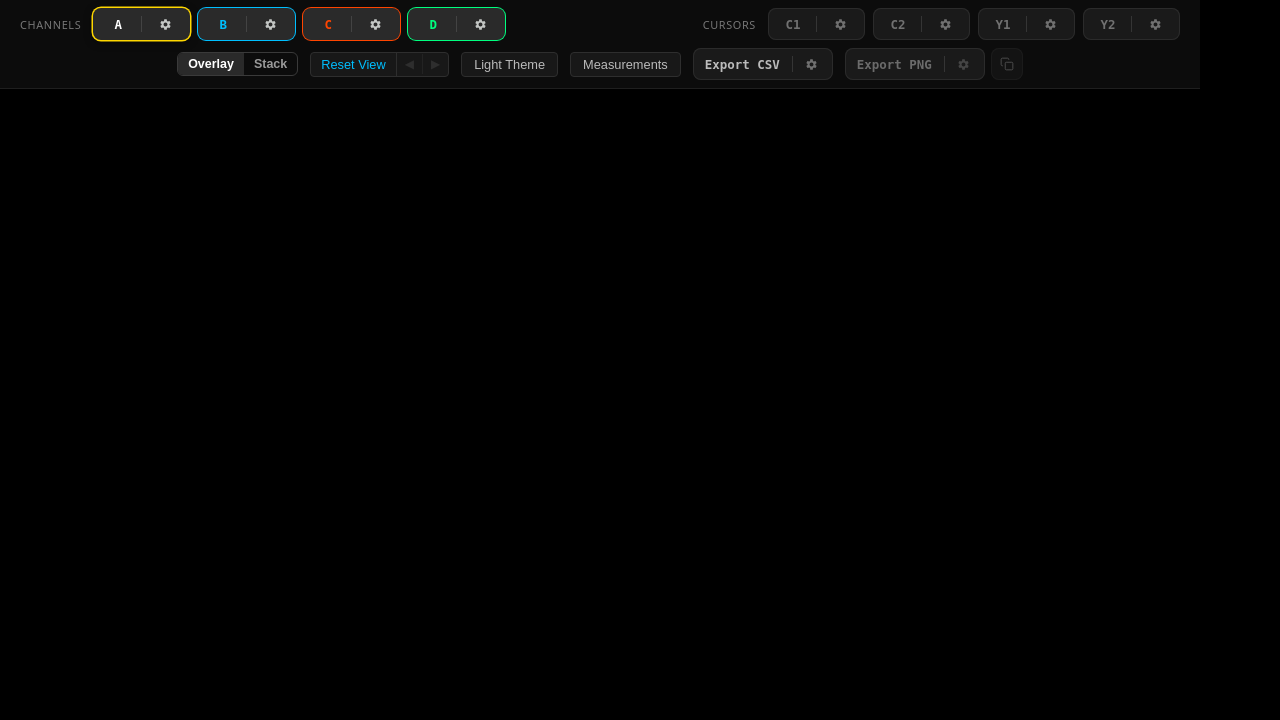
Test case: Badge config popover (issue #204) › AC5/AC6: gear opens one role=dialog popover with initial focus; Esc dismisses and refocuses the gear
The width and height of the screenshot is (1280, 720).
Click the button with test id "channel-gear-A" at (166, 24), box [142,0,190,48]
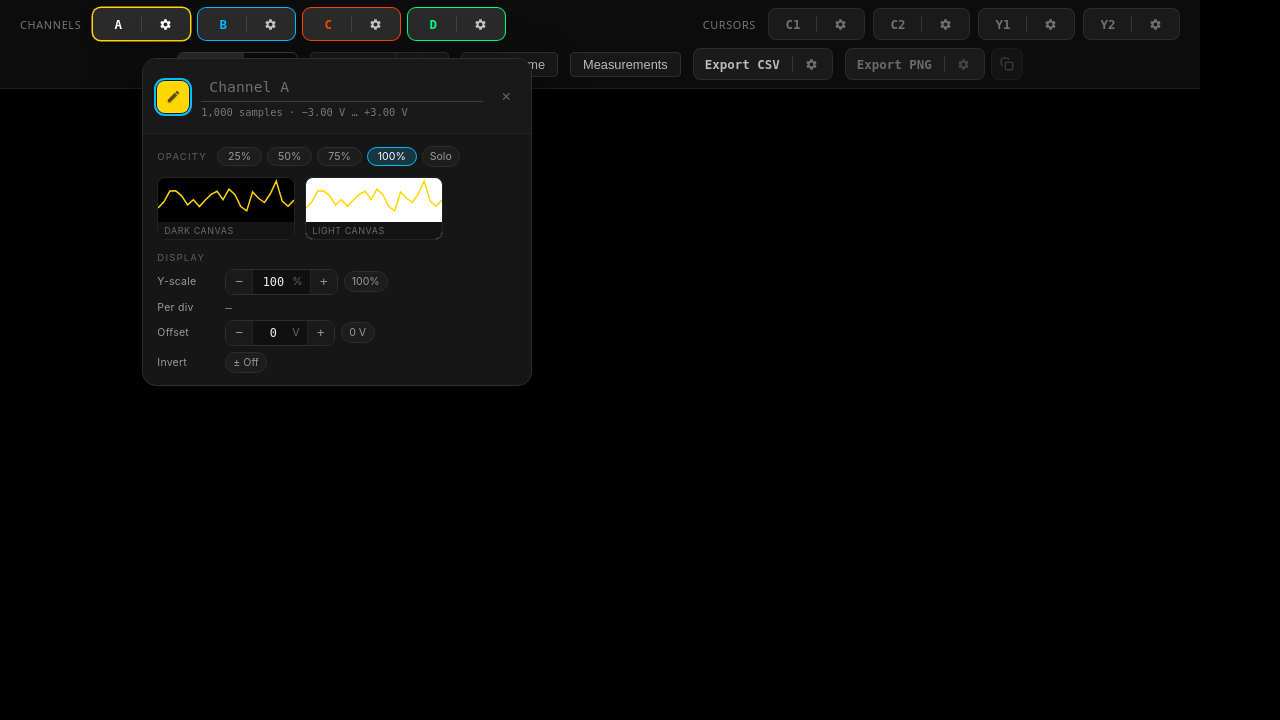
Check: the dialog with test id "badge-config-popover" is shown
Check: the button with test id "channel-gear-A" is expanded, box [142,0,190,48]
Press Escape in the dialog with test id "badge-config-popover", box [142,58,532,386]
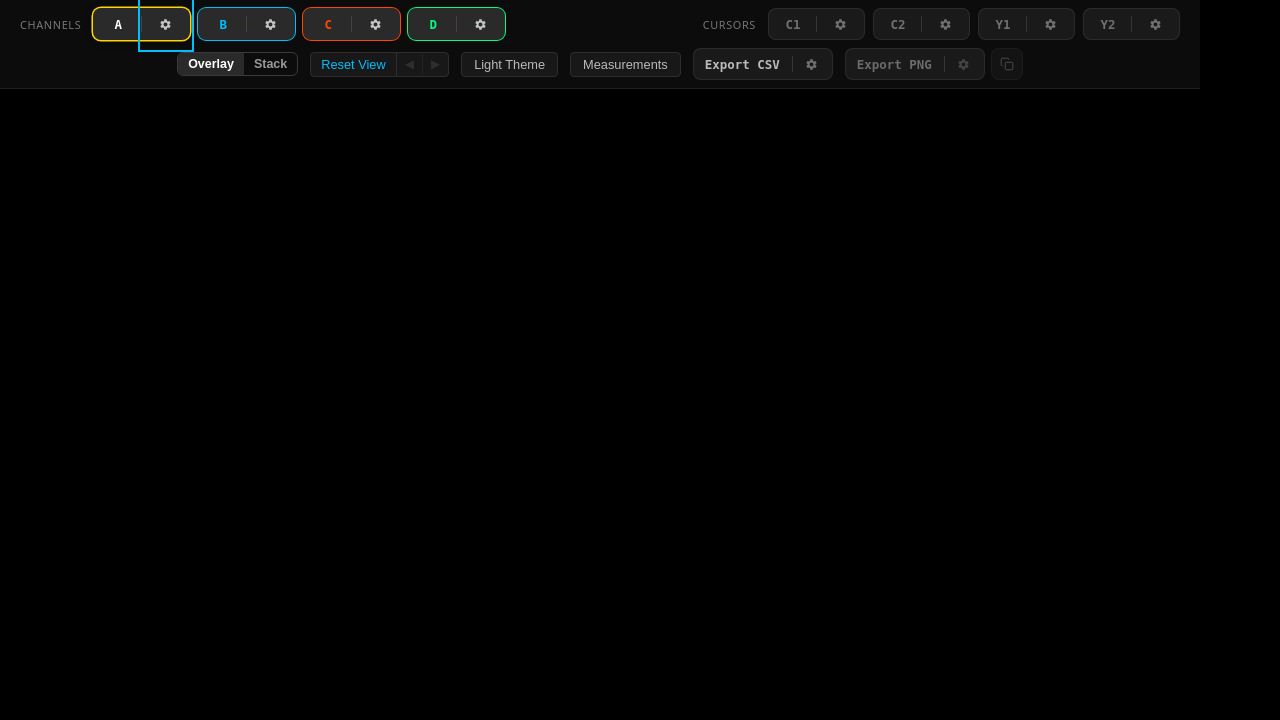
Check: the button with test id "channel-gear-A" is collapsed, box [142,0,190,48]
